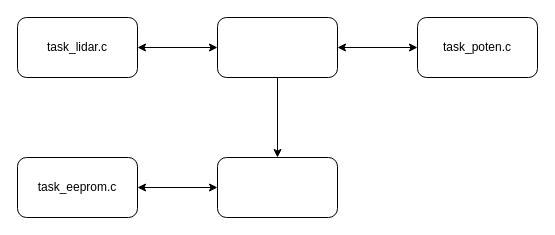
Some shapes in this 555 by 235 pixel diagram are drawn without their labels. Each missing label, with the centre of its shape:
"task_core.c" belongs at point (277, 47).
"task_haptics.c" belongs at point (277, 187).
